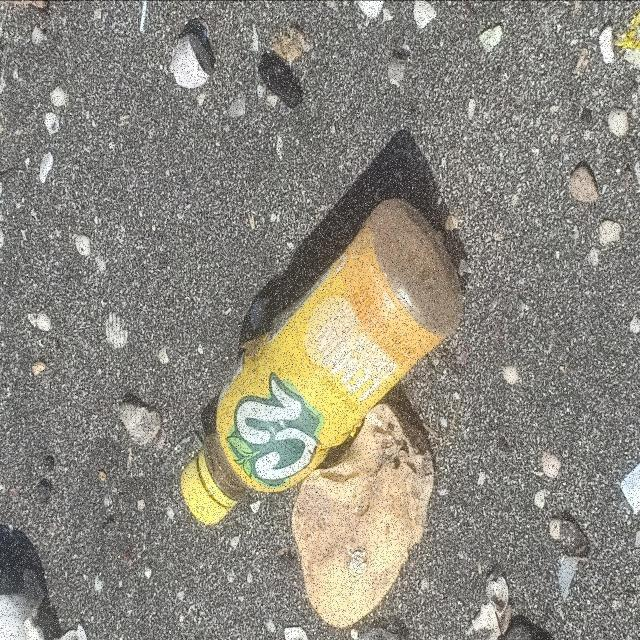plastic_waste: (181, 196, 465, 529)
